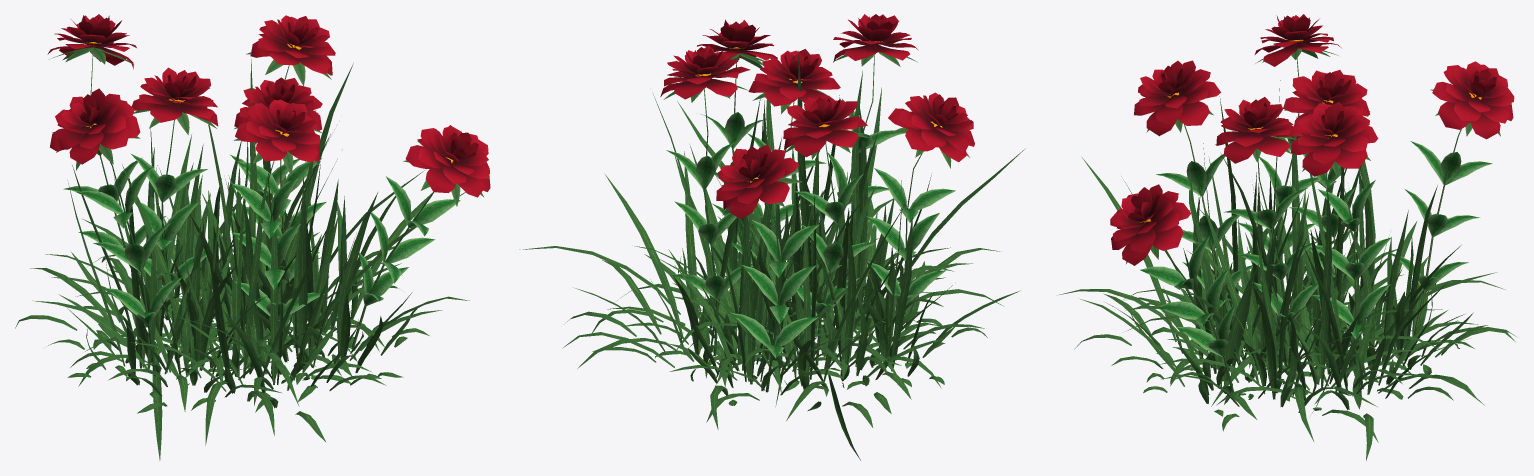
File: Roses_Red.glb
3 renders of one model, left to right at view 1: azimuth 30°, elevation 25°; view 2: azimuth 150°, elevation 25°; view 3: azimuth 270°, elevation 25°, orthographic. The views are drawn at different scales.
Visible parts, largest first — view 1: Roses_Red; view 2: Roses_Red; view 3: Roses_Red.
Part boxes in pixels (box(x1,y1,x2,y2)): Roses_Red: box(15, 14, 490, 460); Roses_Red: box(519, 14, 1025, 460); Roses_Red: box(1059, 14, 1516, 460).
Size of the model in its own units: 1.63 by 1.47 by 1.61.
Materials: 5 (5 with a texture image).
